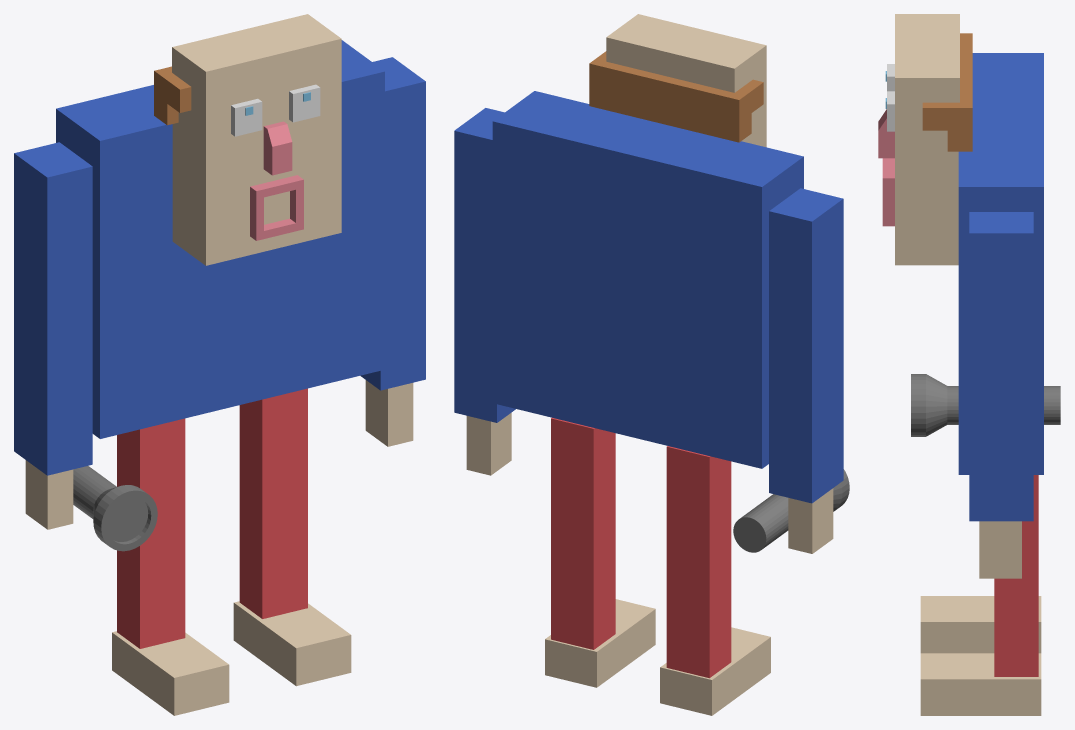
File: Old Man Model.fbx
3 renders of one model, left to right at view 1: azimuth 30°, elevation 25°; view 2: azimuth 150°, elevation 25°; view 3: azimuth 270°, elevation 25°, orthographic. The views are drawn at different scales.
Visible parts, largest first — view 1: body, face, left arm, right leg, right arm, left leg, right foot, left foot, torch, right hand, left hand, mouth (+4 smaller); view 2: body, left arm, left leg, right leg, right arm, face, hair, right foot, left foot, torch, right hand, left hand; view 3: right arm, body, face, right foot, right leg, left foot, torch, hair, right hand, mouth, nose, right eye.
Boxes of the visible parts, box(x1,y1,x2,y2) form: body: box(56, 40, 384, 438); face: box(172, 14, 341, 265); left arm: box(14, 142, 92, 475); right leg: box(239, 388, 307, 618); right arm: box(360, 57, 425, 390); left leg: box(117, 418, 185, 648); right foot: box(233, 601, 351, 686); left foot: box(112, 631, 229, 715); torch: box(73, 466, 157, 551); right hand: box(365, 380, 413, 446); left hand: box(25, 460, 73, 529); mouth: box(250, 175, 303, 240); body: box(492, 91, 803, 468); left arm: box(769, 188, 843, 503); left leg: box(666, 446, 731, 678); right leg: box(551, 417, 615, 649); right arm: box(454, 108, 515, 422); face: box(606, 14, 766, 147); hair: box(589, 51, 763, 142); right foot: box(545, 599, 655, 687); left foot: box(660, 627, 770, 715); torch: box(733, 469, 849, 552); right hand: box(466, 412, 511, 475); left hand: box(788, 488, 833, 553); right arm: box(969, 212, 1033, 521); body: box(958, 53, 1043, 474); face: box(895, 14, 959, 265); right foot: box(920, 653, 1041, 715); right leg: box(994, 475, 1038, 676); left foot: box(920, 596, 1041, 653); torch: box(911, 374, 1060, 436); hair: box(922, 33, 972, 151); right hand: box(979, 521, 1021, 578); mouth: box(882, 158, 894, 226); nose: box(878, 109, 894, 158); right eye: box(887, 91, 894, 131).
Size of the model in its own units: 266 by 436 by 115.
